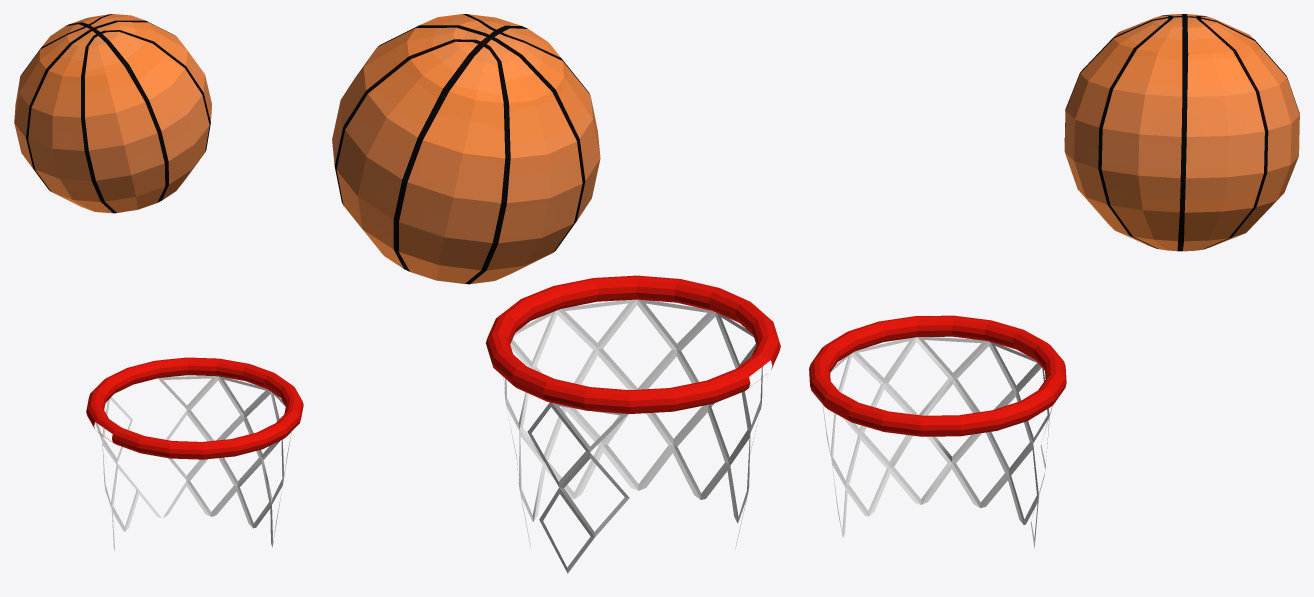
The model's file is Basketball.glb.
The picture shows the model from 3 angles, left to right: view 1: azimuth 30°, elevation 25°; view 2: azimuth 150°, elevation 25°; view 3: azimuth 270°, elevation 25°; orthographic projection. The views are drawn at different scales.
Visible parts, largest first — view 1: Sphere, ring, net; view 2: Sphere, ring, net; view 3: Sphere, ring, net.
Boxes of the visible parts, x1,y1,x2,y2 form: Sphere: (14, 14, 211, 213); ring: (86, 357, 303, 459); net: (95, 376, 291, 551); Sphere: (332, 14, 600, 284); ring: (486, 275, 780, 413); net: (503, 299, 762, 573); Sphere: (1064, 14, 1299, 251); ring: (809, 315, 1066, 436); net: (822, 337, 1053, 548).
Size of the model in its own units: 1.29 by 2.73 by 2.28.
Materials: 3 (1 with a texture image).
